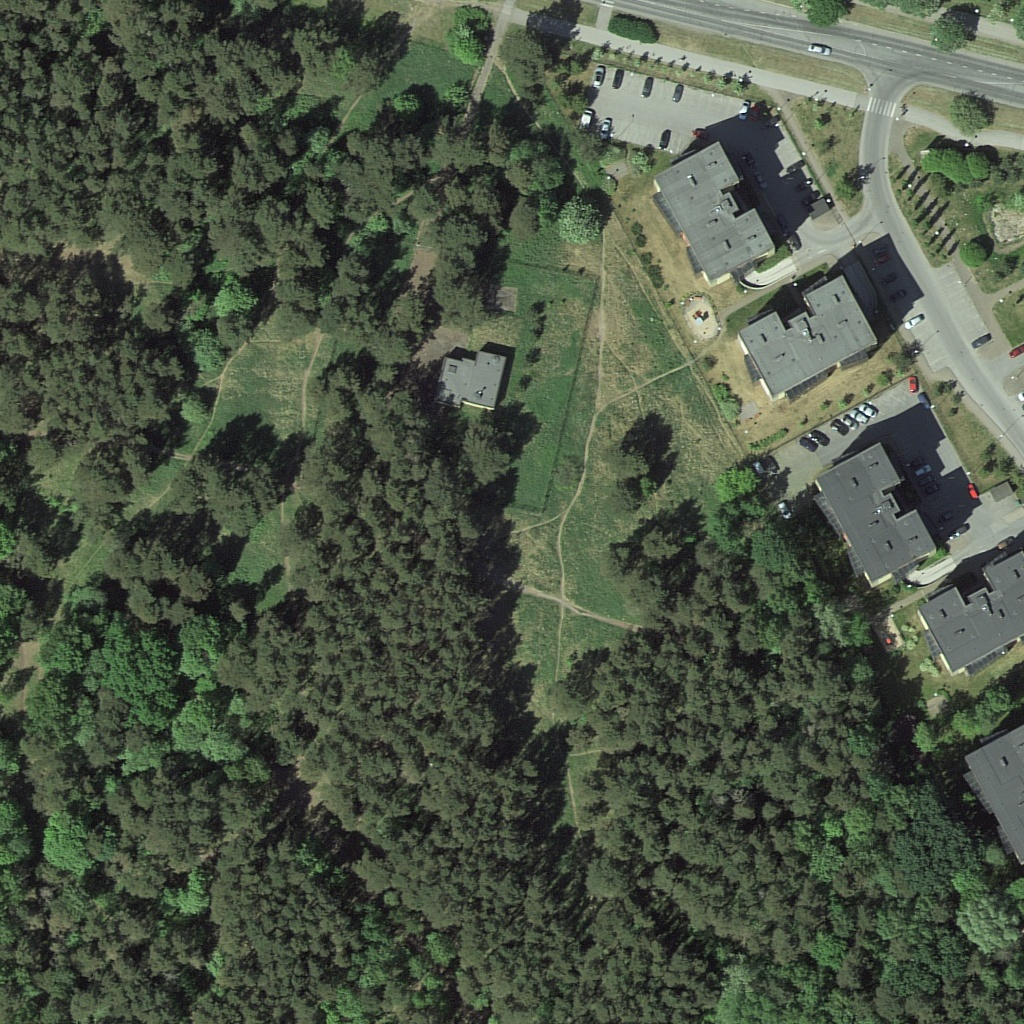building: (811, 442, 940, 595), (651, 138, 778, 281), (741, 278, 882, 398), (914, 549, 1024, 677), (967, 721, 1024, 846), (432, 339, 512, 415)
